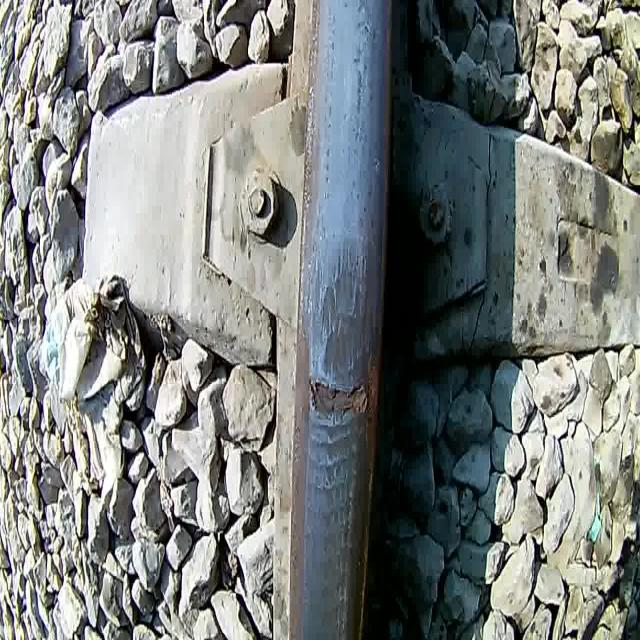Spallings: (307, 366, 373, 426)
Squats: (303, 414, 363, 595), (310, 228, 381, 378)
